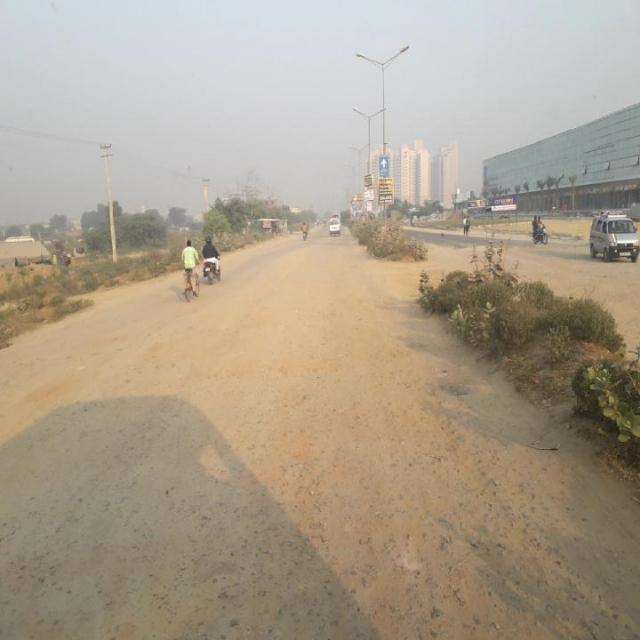Surface Erosion: (73, 219, 522, 640)
